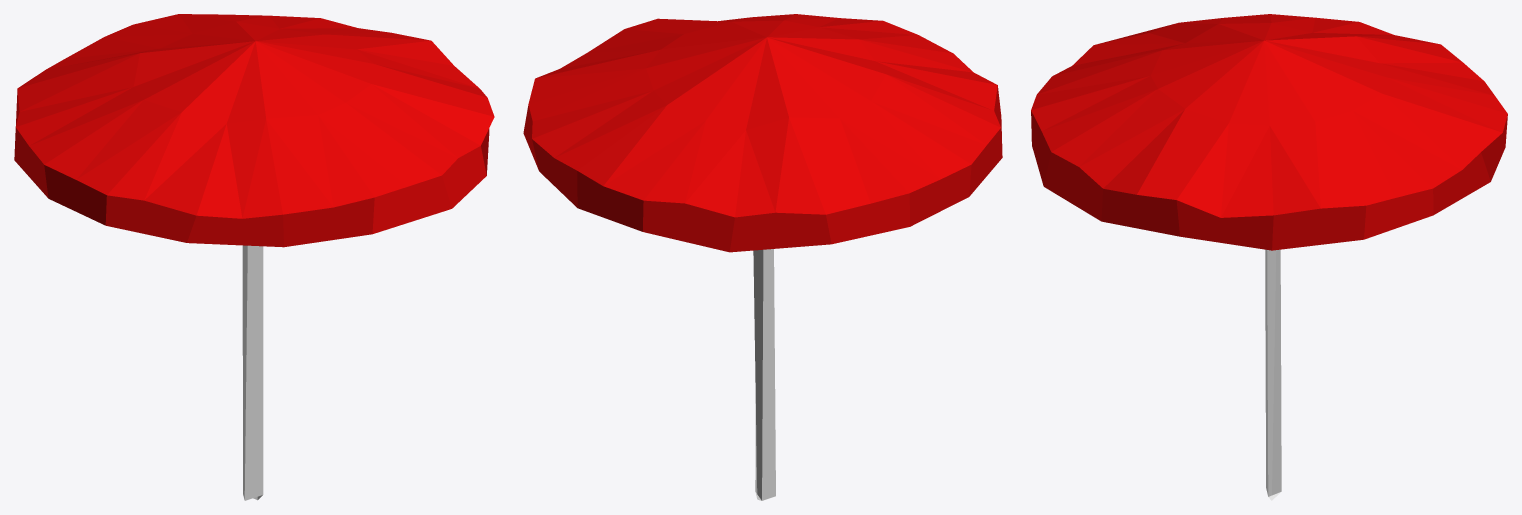
The model's file is Parasol.fbx.
3 views of the same model, side by side, from view 1: azimuth 30°, elevation 25°; view 2: azimuth 150°, elevation 25°; view 3: azimuth 270°, elevation 25° (orthographic).
Parts seen in each view (by area): view 1: Cone; view 2: Cone; view 3: Cone.
Part boxes in pixels (left/top/right/bottom): Cone: left=14, top=14, right=494, bottom=500; Cone: left=523, top=14, right=1002, bottom=500; Cone: left=1031, top=14, right=1507, bottom=500.
Size of the model in its own units: 337 by 361 by 341.
